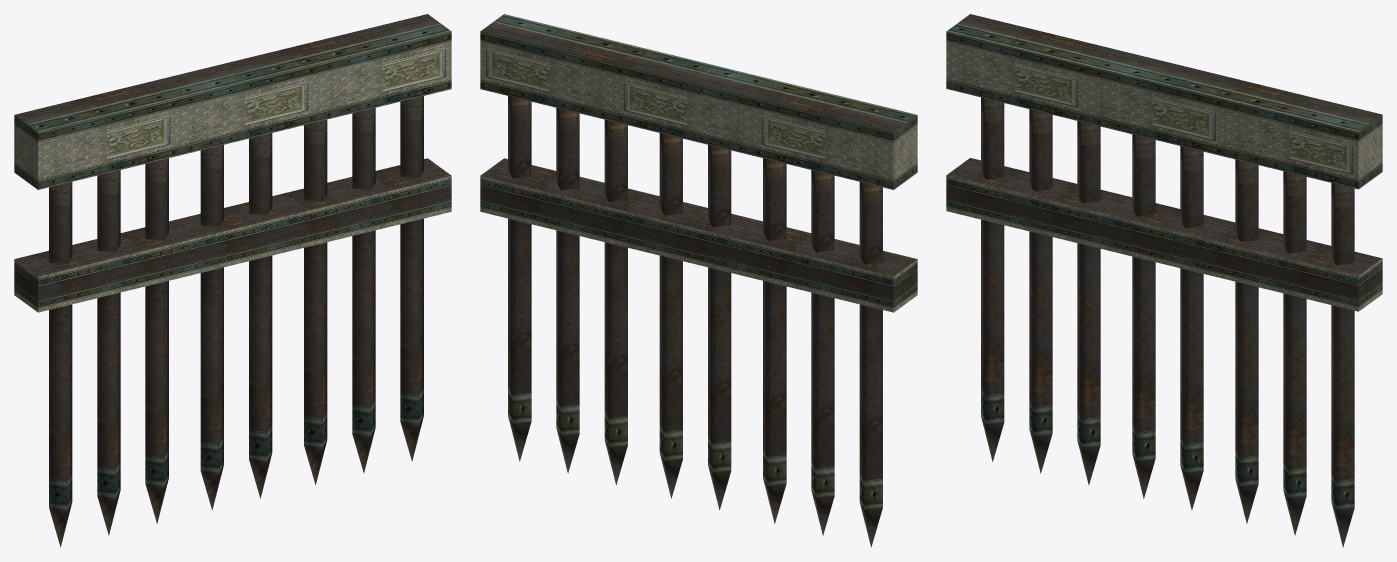
File: lv9_r13_shutter.dae
The picture shows the model from 3 angles, left to right: view 1: azimuth 30°, elevation 25°; view 2: azimuth 150°, elevation 25°; view 3: azimuth 330°, elevation 25°; orthographic projection.
Parts seen in each view (by area): view 1: Shape 0, Shape 1; view 2: Shape 0, Shape 1; view 3: Shape 0, Shape 1.
Boxes of the visible parts, x1,y1,x2,y2 form: Shape 0: (14,14,451,312); Shape 1: (49,96,423,547); Shape 0: (480,14,917,312); Shape 1: (508,96,882,547); Shape 0: (946,14,1382,311); Shape 1: (981,97,1354,547).
Size of the model in its own units: 600 by 600 by 60.
2 materials, 2 textured.
